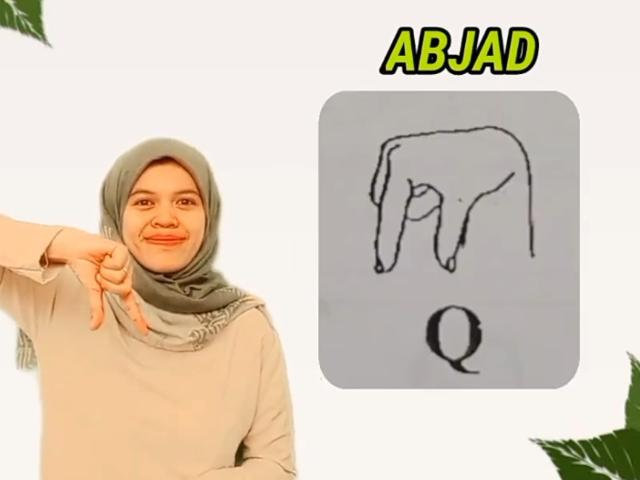Q: (72, 224, 156, 342)
